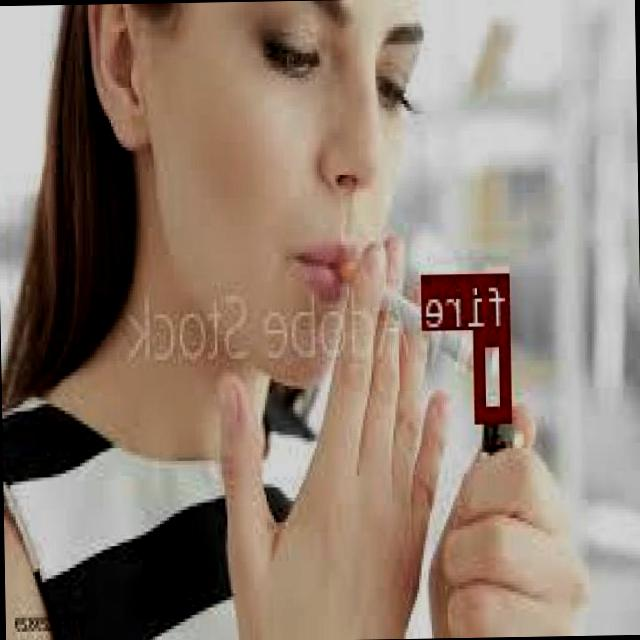fire: (476, 328, 514, 418)
